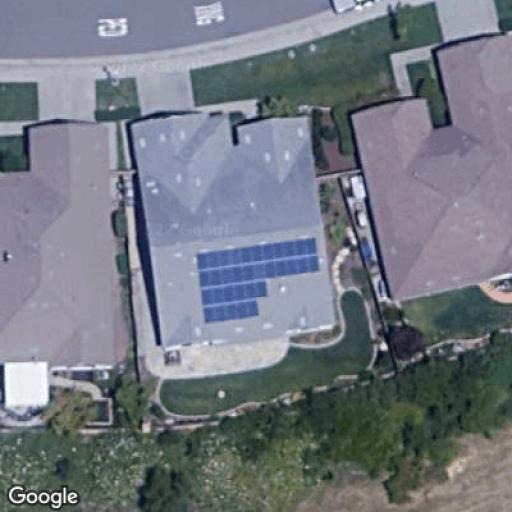solar-panel: (195, 236, 321, 324)
